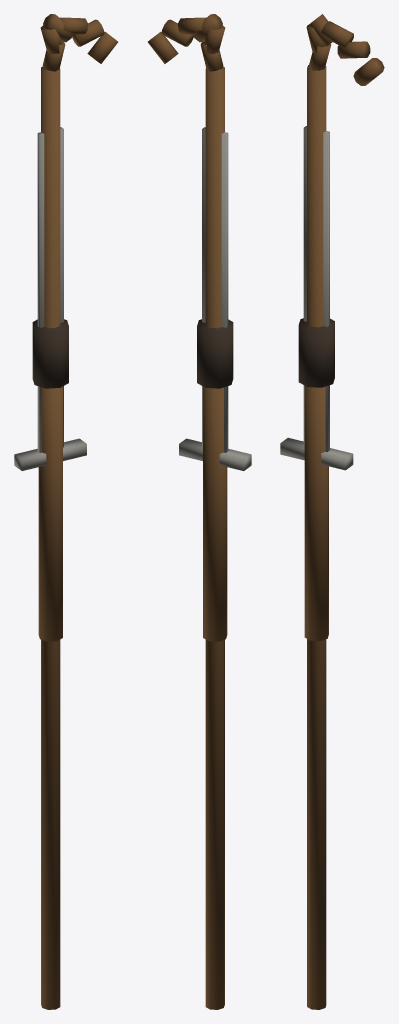
The model's file is props.glb.
3 views of the same model, side by side, from view 1: azimuth 30°, elevation 25°; view 2: azimuth 150°, elevation 25°; view 3: azimuth 330°, elevation 25° (orthographic).
Parts seen in each view (by area): view 1: prop_staff, prop_torch, prop_sword; view 2: prop_staff, prop_torch, prop_sword; view 3: prop_staff, prop_torch, prop_sword.
Boxes of the visible parts, x1=… form: prop_staff: x1=40, y1=14, x2=117, y2=1009; prop_torch: x1=32, y1=319, x2=68, y2=641; prop_sword: x1=14, y1=127, x2=86, y2=470; prop_staff: x1=148, y1=14, x2=225, y2=1009; prop_torch: x1=197, y1=319, x2=233, y2=641; prop_sword: x1=179, y1=127, x2=251, y2=470; prop_staff: x1=306, y1=14, x2=384, y2=1009; prop_torch: x1=298, y1=318, x2=334, y2=641; prop_sword: x1=280, y1=126, x2=353, y2=470.
Size of the model in its own units: 0.1819 by 1.74 by 0.06.
